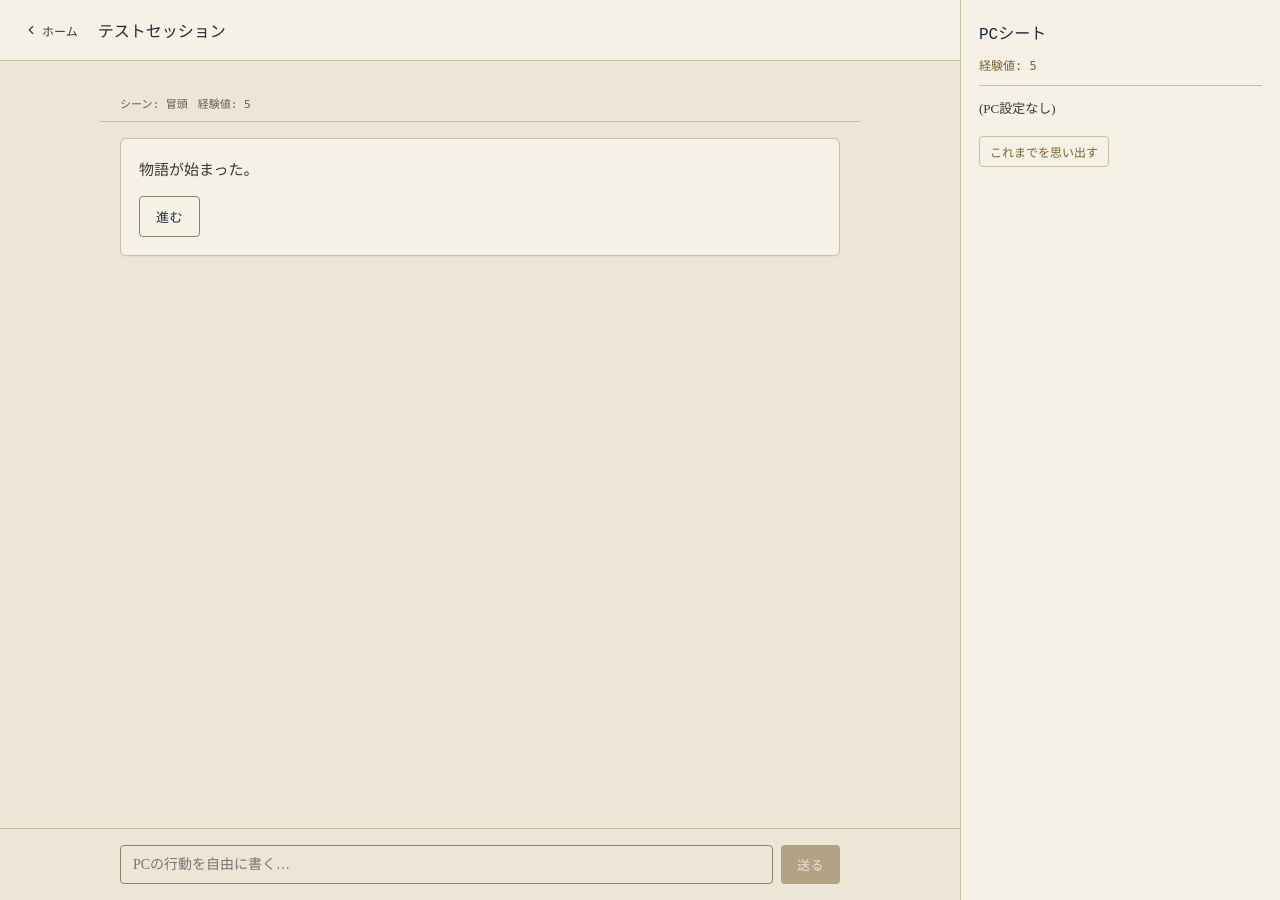
Test: Play › shows an error and restores the submitted input when the model returns unparseable output
Expected: the text "物語が始まった。" is shown, [139,162,258,178]
Type "罠を調べる" into the field with placeholder "PCの行動を自由に書く…".
click(446, 864); type("罠を調べる")  # box [120,845,773,884]
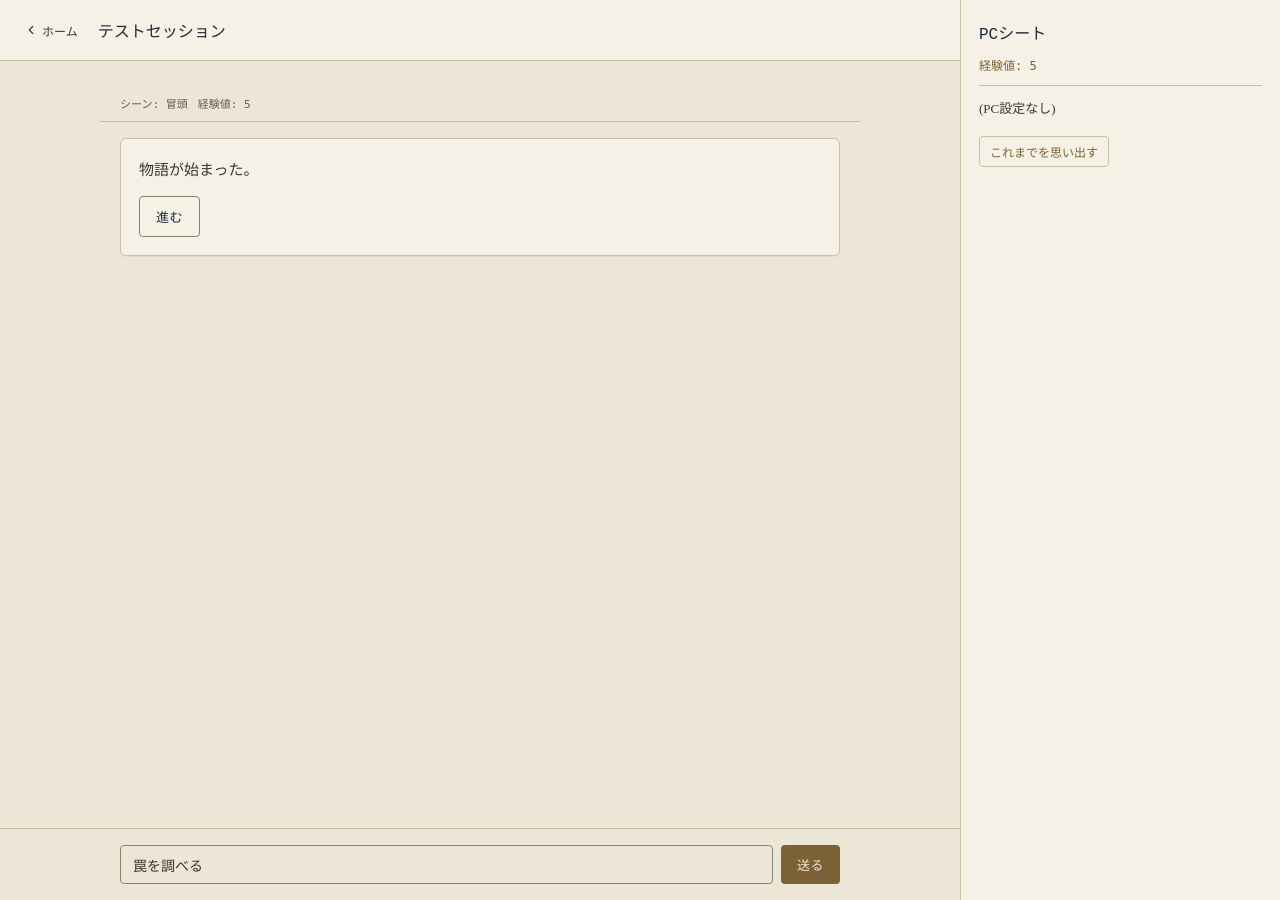
Click the button "送る".
click(810, 864)  # box [781,845,840,884]
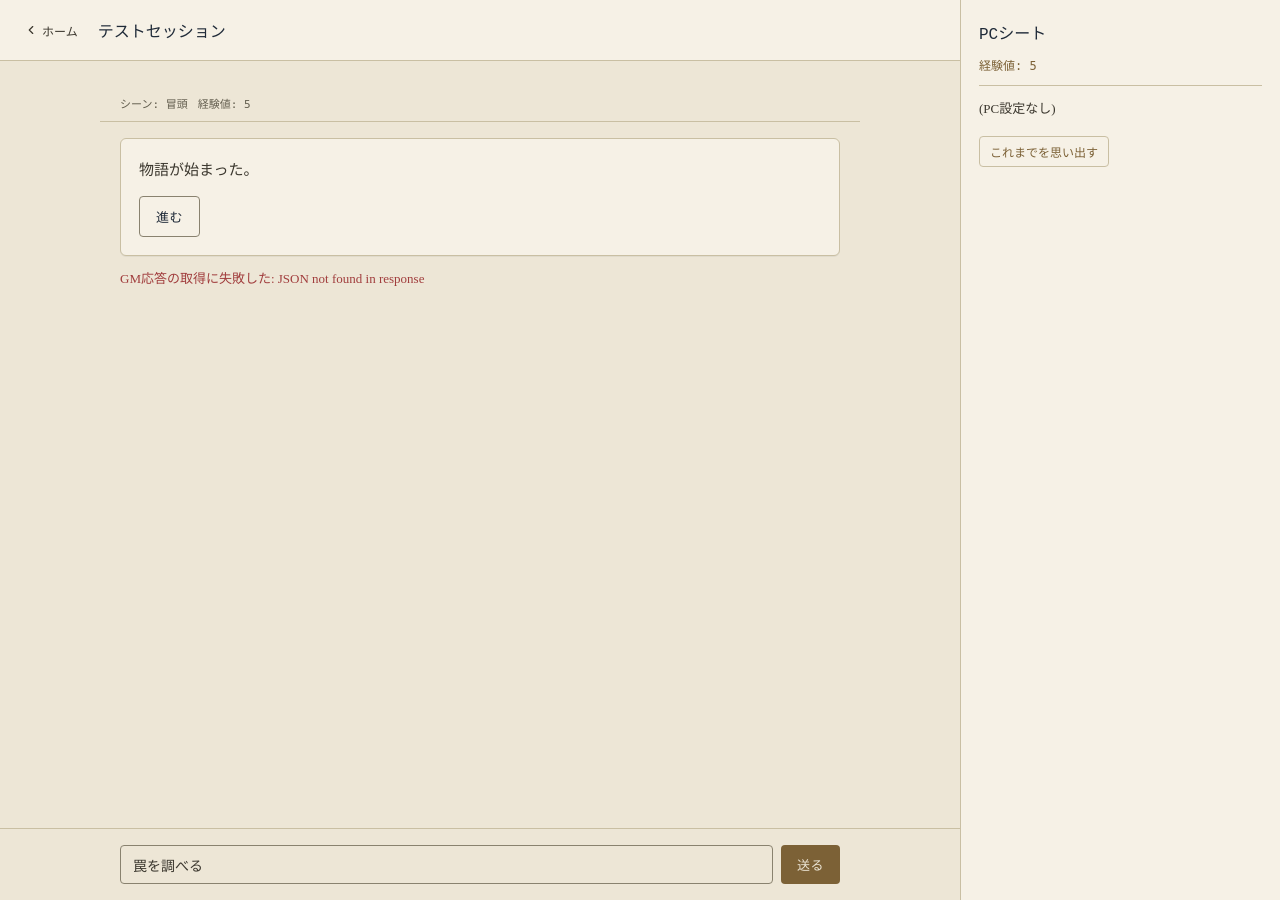
Expected: the text "GM応答の取得に失敗した: JSON not found in response" is shown, [120,271,424,286]
